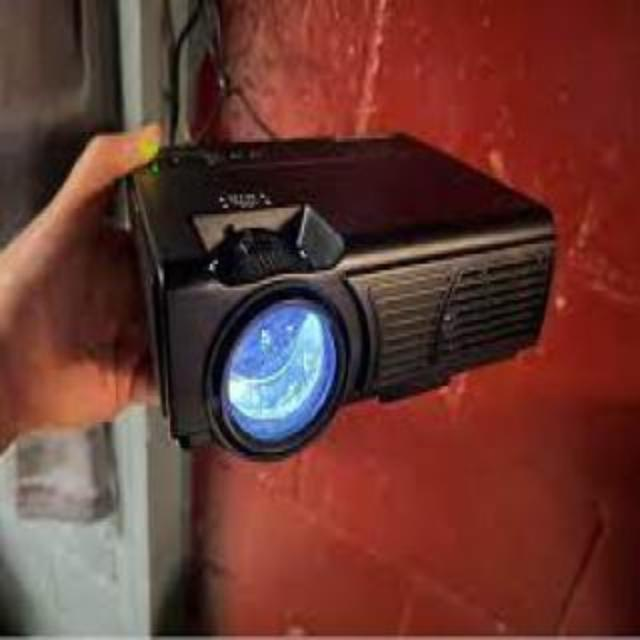Projector: (134, 134, 558, 462)
